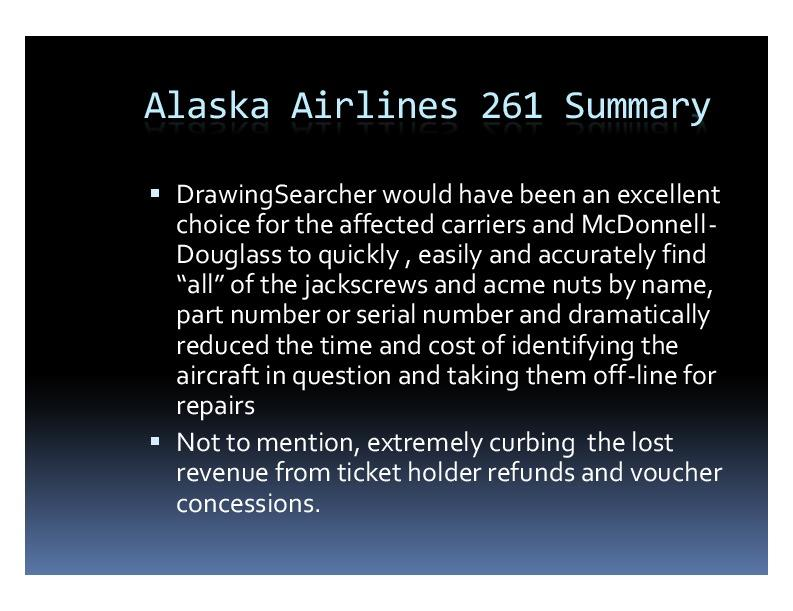paragraph: (138, 168, 738, 527)
title: (131, 75, 714, 127)
